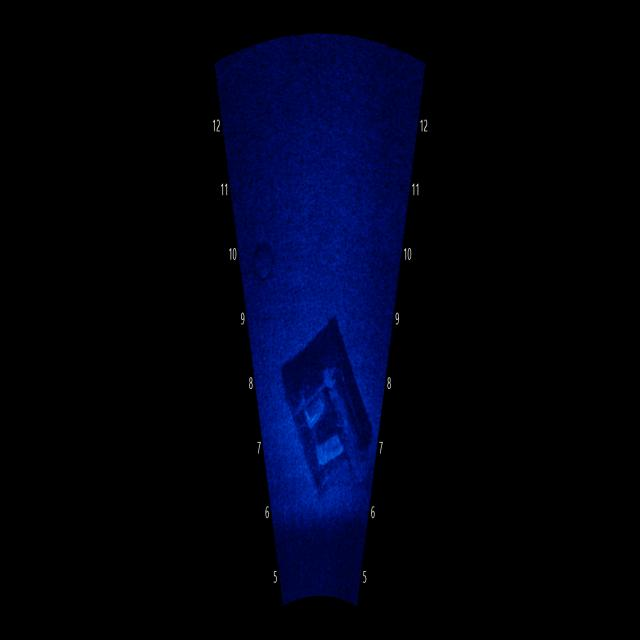square: (271, 311, 376, 494)
